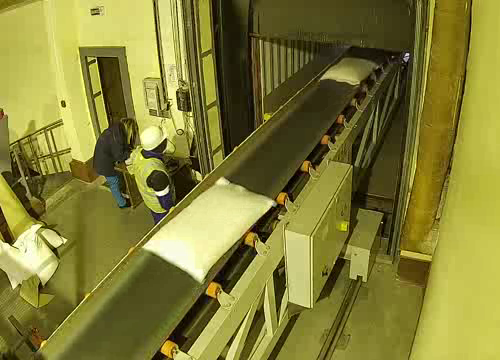bag: (136, 171, 284, 288), (315, 50, 388, 90)
